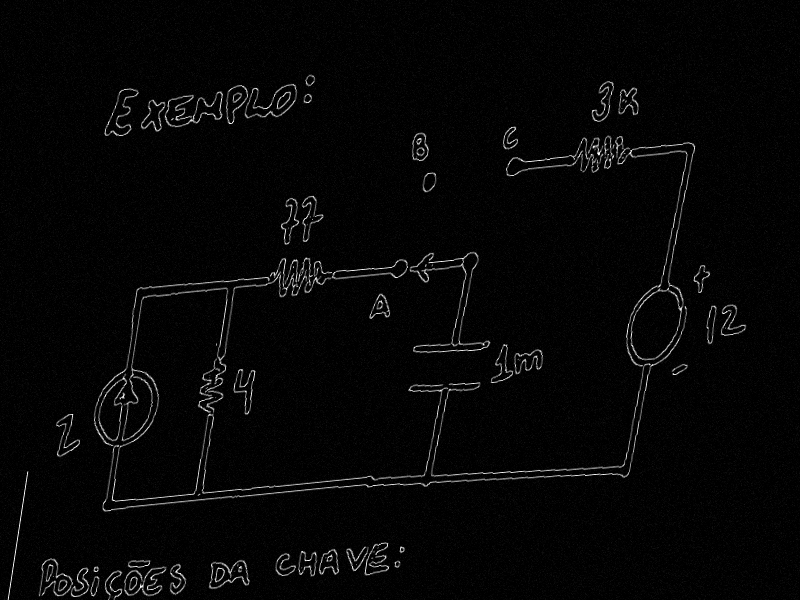-: (125, 556, 154, 570), (669, 361, 690, 378)
0: (266, 80, 300, 119), (120, 568, 146, 598), (51, 570, 77, 599)
1: (489, 341, 519, 387), (701, 302, 721, 348)
2: (713, 298, 752, 339)
3: (587, 79, 617, 126)
4: (227, 365, 260, 417)
7: (295, 191, 328, 244), (276, 195, 304, 247)
A: (366, 289, 397, 323), (316, 544, 345, 577), (226, 557, 255, 590)
H: (294, 548, 320, 579)
V: (341, 543, 372, 575)
k: (614, 84, 645, 120)
m: (190, 89, 228, 126), (511, 344, 547, 374)
p: (221, 82, 250, 126), (35, 554, 62, 600)
